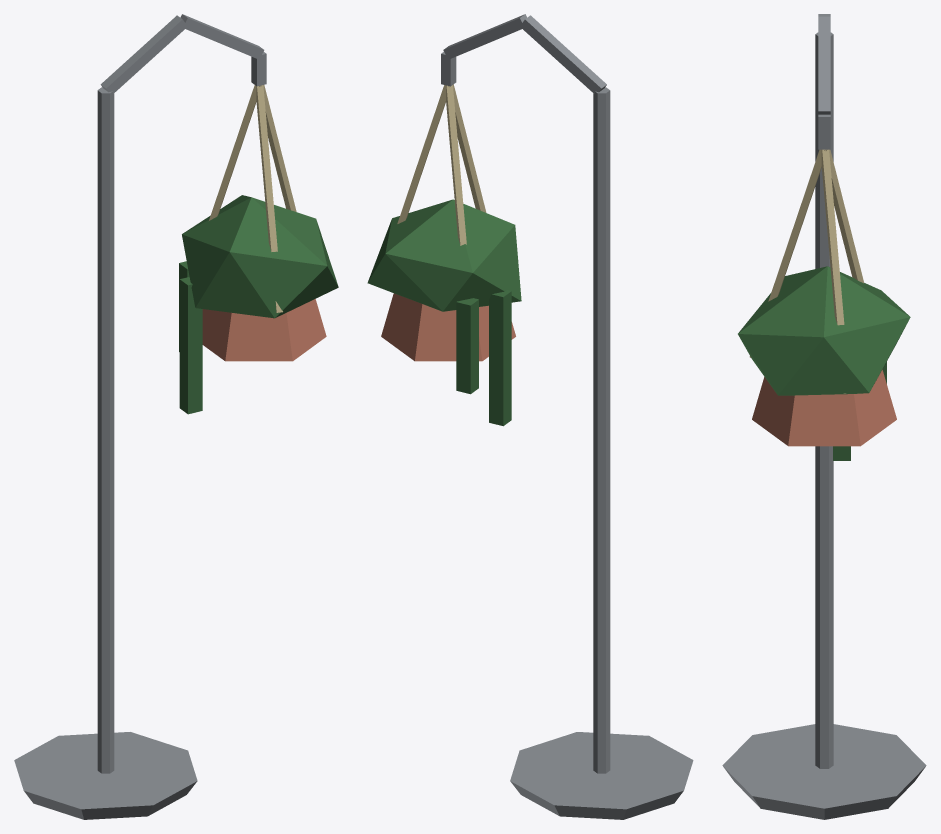
Rendered from plant-hanger-12.glb.
The picture shows the model from 3 angles, left to right: view 1: azimuth 30°, elevation 25°; view 2: azimuth 150°, elevation 25°; view 3: azimuth 270°, elevation 25°; orthographic projection. The views are drawn at different scales.
Visible parts, largest first — view 1: plant_hanger_12; view 2: plant_hanger_12; view 3: plant_hanger_12.
Boxes of the visible parts, bbox=[...] form: plant_hanger_12: bbox=[14, 14, 338, 819]; plant_hanger_12: bbox=[367, 14, 693, 819]; plant_hanger_12: bbox=[722, 14, 926, 819].
Bounding box in the file's own units: 0.6113 × 1.48 × 0.34.
